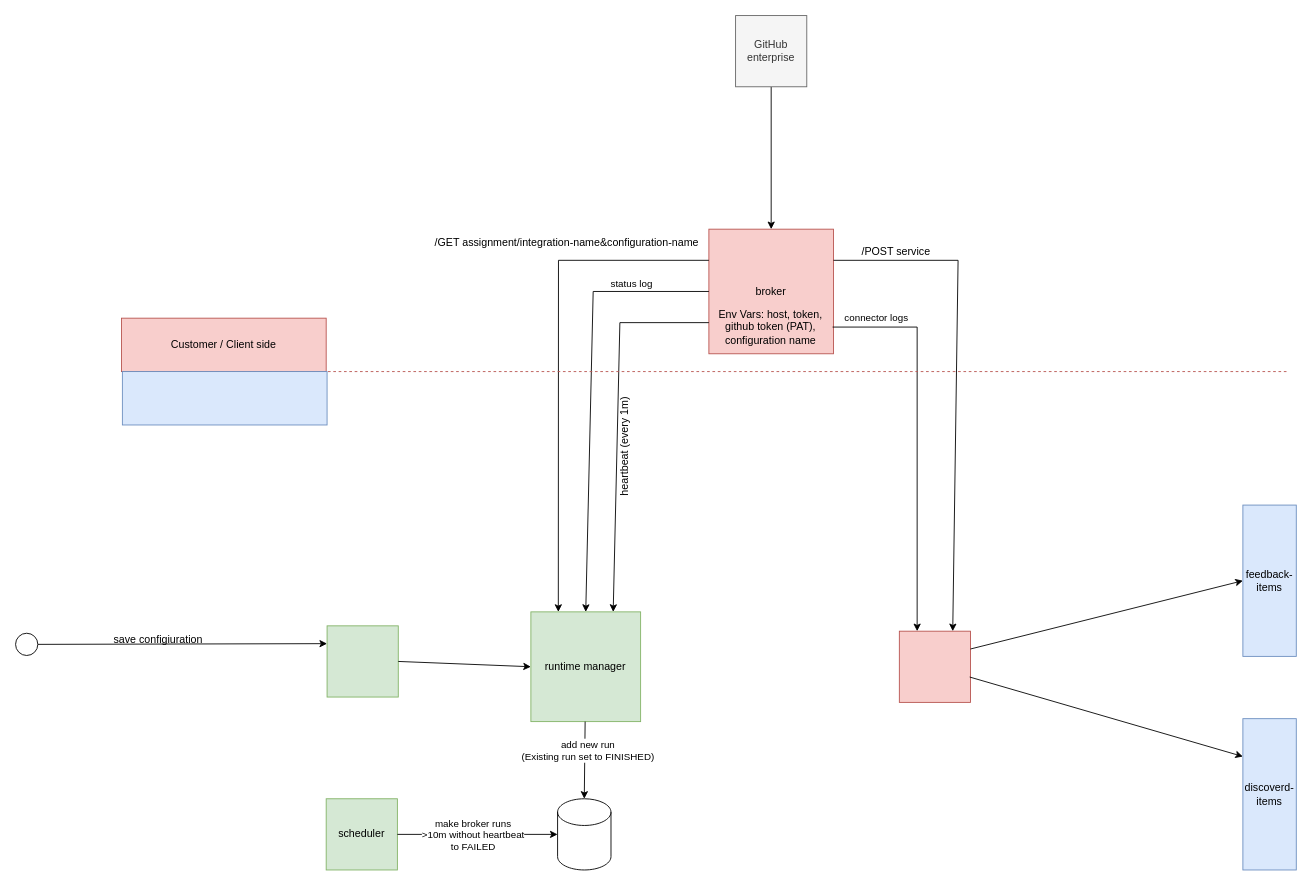
The diagram is 1312 pixels wide and 886 high, and some of its shapes have lost their labels. Each missing label, with the centre of its shape:
events-broker: (934,666)
integration-ally: (362,661)
LeanIX Canopy: (224,398)
